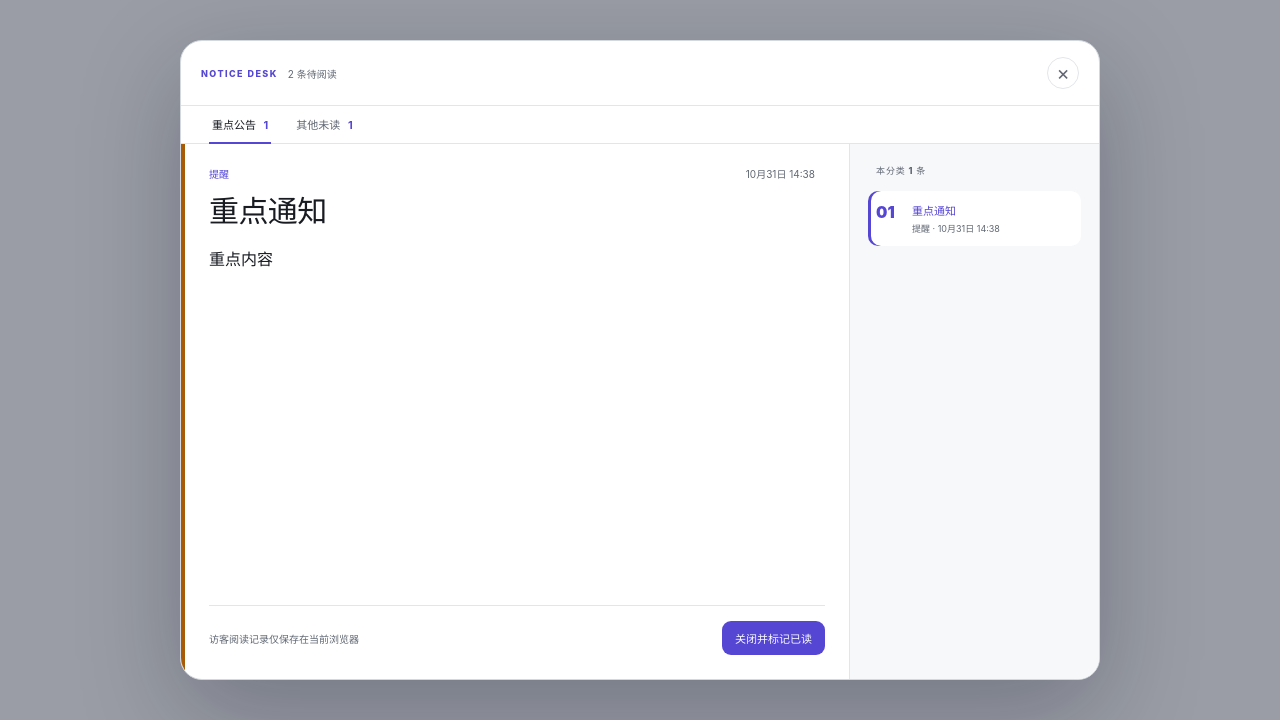
Scenario: AnnouncementStack › opens only for a popup notice and separates other unread notices into a tab
Expected: the heading "重点通知" is shown, [209,193,327,229]
Expected: the navigation bar with class "announcement-tabs" is shown, [181,106,1099,144]
Click the tab "其他未读 1": (325, 124) [285,106,364,143]
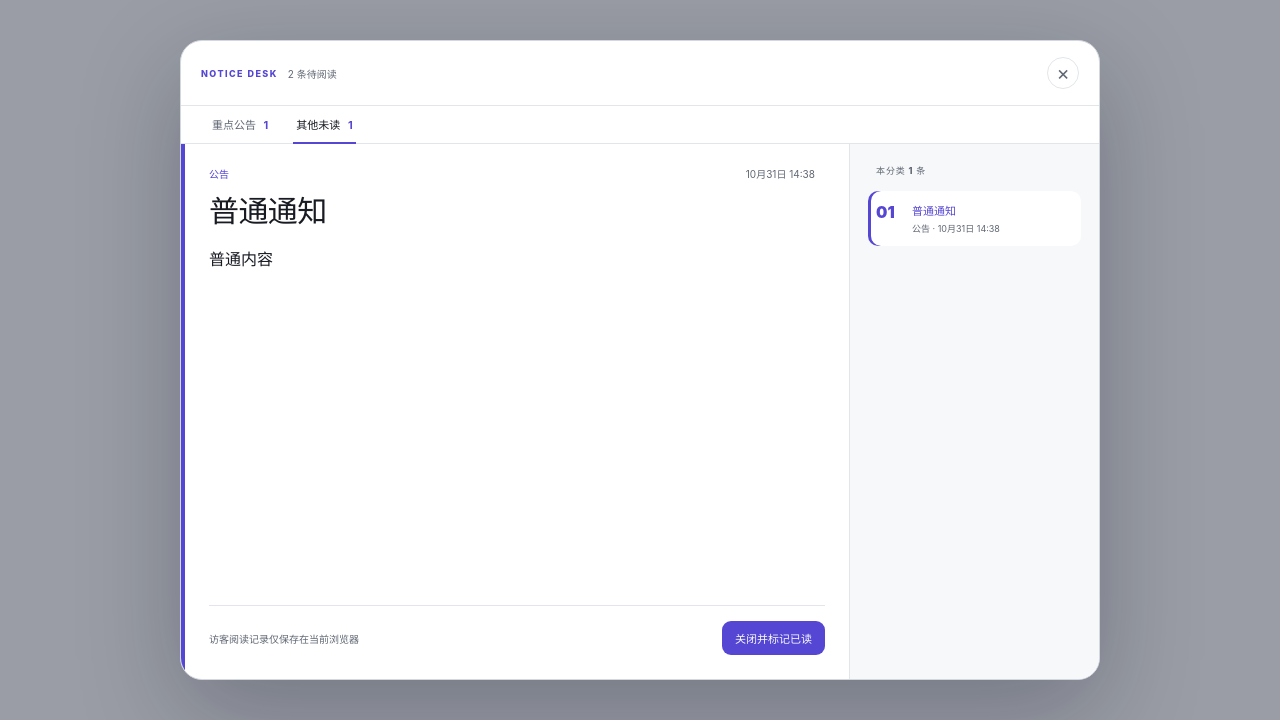
Expected: the heading "普通通知" is shown, [209,193,327,229]
Click the tab "重点公告 1": (240, 124) [201,106,279,143]
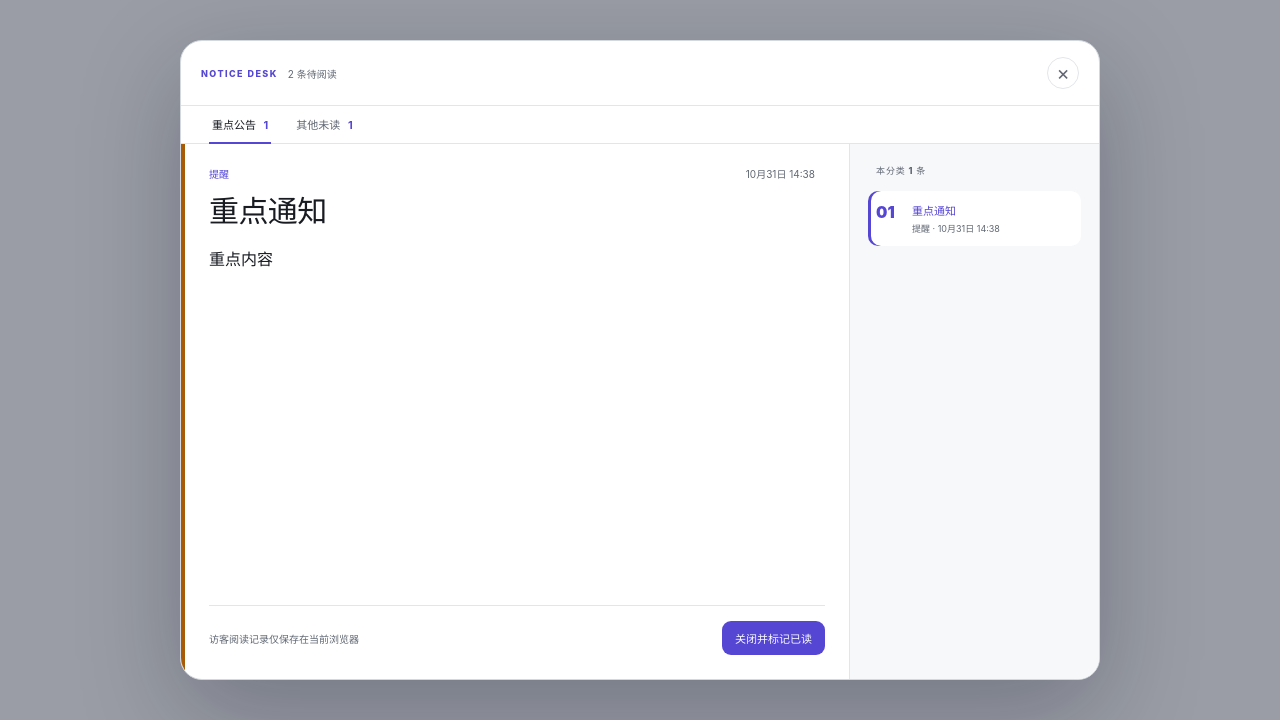
Click the button with class "acknowledge": (774, 638) [722,621,825,655]
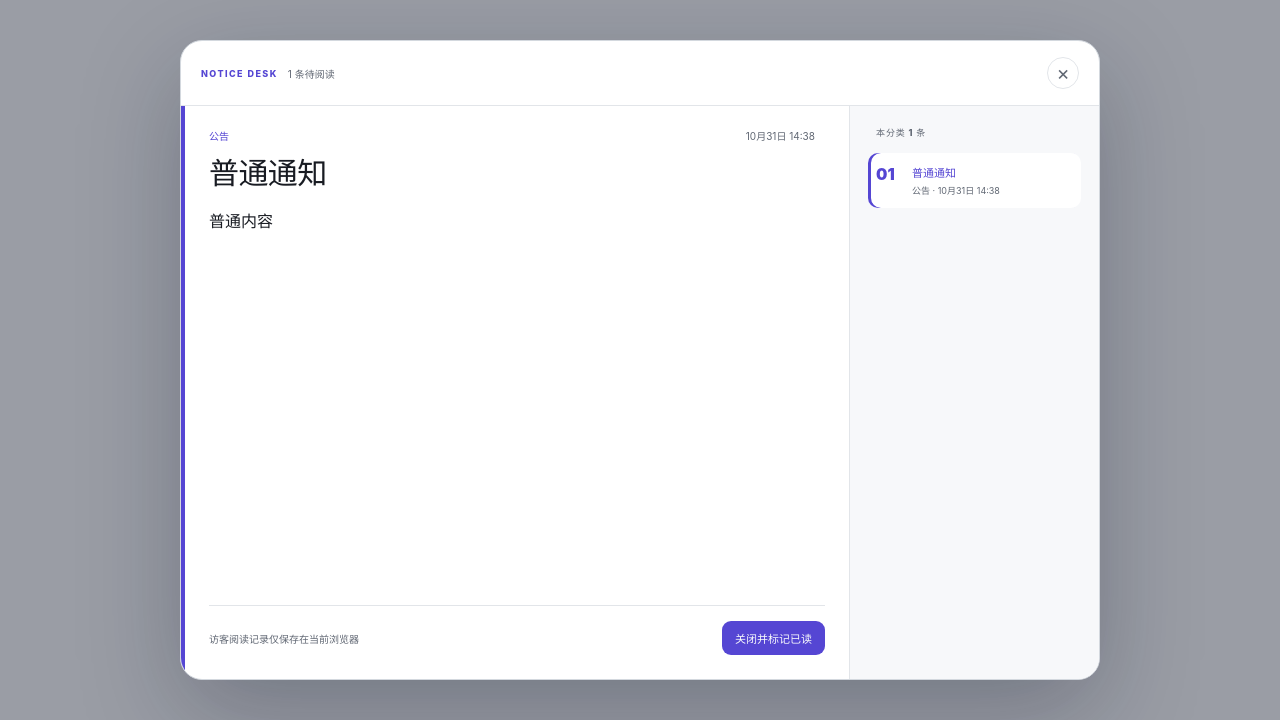
Expected: the heading "普通通知" is shown, [209,155,327,191]
